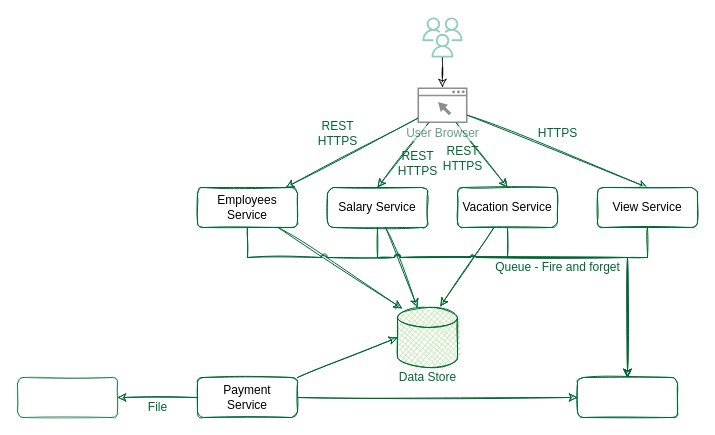
The diagram is 715 pixels wide and 435 high, and some of its shapes have lost their labels. Each missing label, with the centre of its shape:
Logging: point 627,397
Payment System: point 67,397
